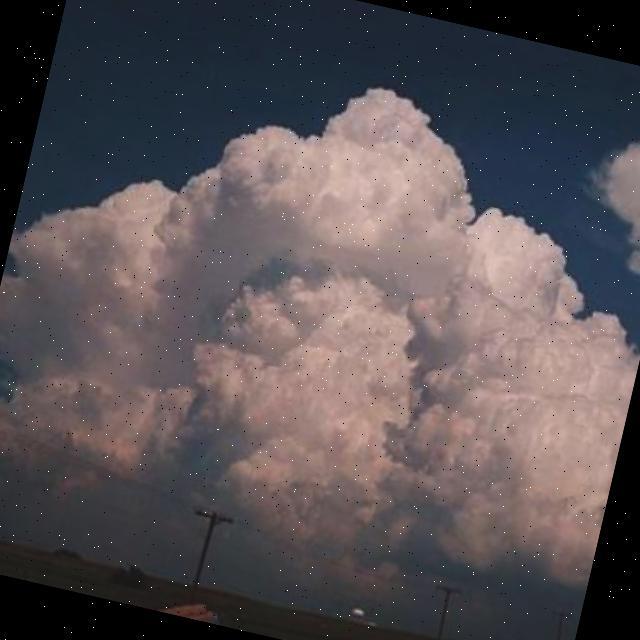Cb: (1, 1, 640, 556)
